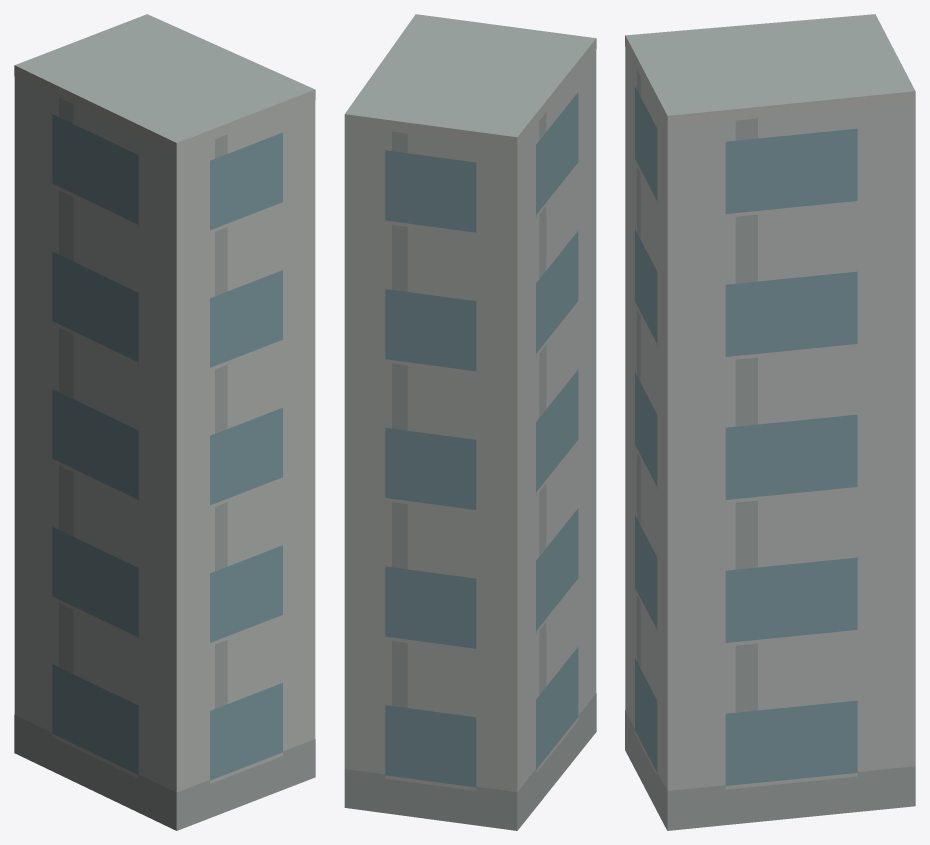
File: survey-upis-32909368.glb
The picture shows the model from 3 angles, left to right: view 1: azimuth 30°, elevation 25°; view 2: azimuth 150°, elevation 25°; view 3: azimuth 270°, elevation 25°; orthographic projection. The views are drawn at different scales.
Visible parts, largest first — view 1: survey-upis-32909368.tmp; view 2: survey-upis-32909368.tmp; view 3: survey-upis-32909368.tmp.
Boxes of the visible parts, left/top/right/bottom form: survey-upis-32909368.tmp: left=14, top=14, right=315, bottom=830; survey-upis-32909368.tmp: left=344, top=14, right=596, bottom=830; survey-upis-32909368.tmp: left=625, top=14, right=915, bottom=830.
Size of the model in its own units: 4.67 by 15.25 by 5.62.
